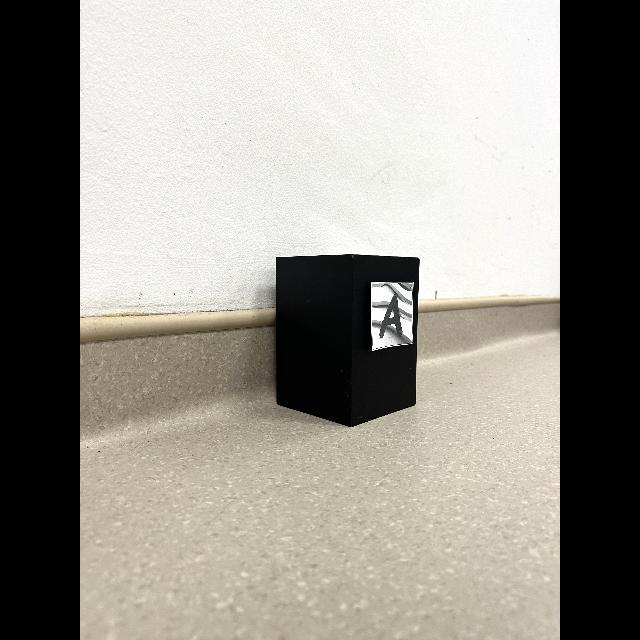A: (379, 294, 402, 338)
